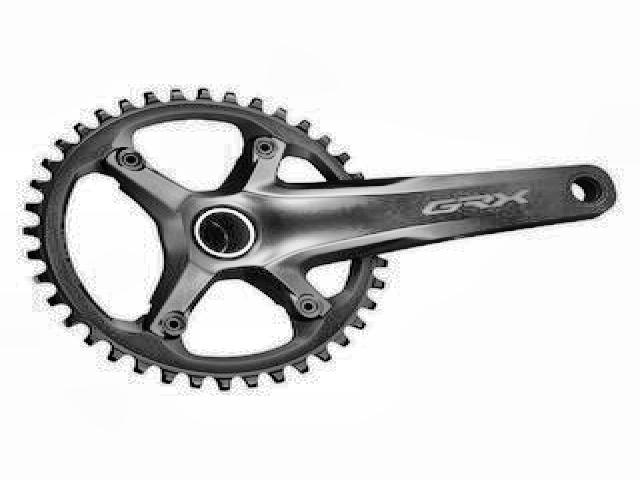cranks_set: (25, 87, 619, 392)
